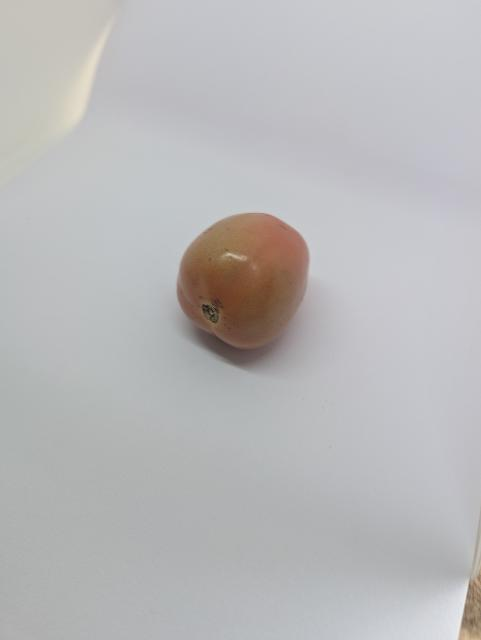turning: (173, 204, 316, 355)
